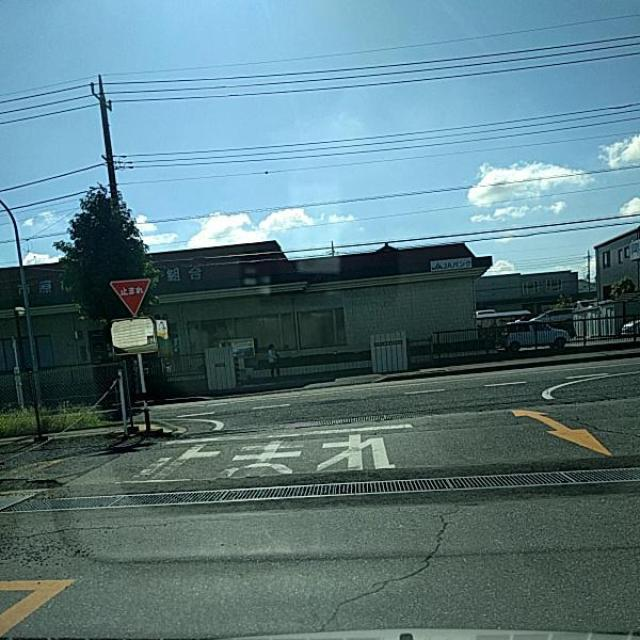Crack: (356, 486, 497, 640)
